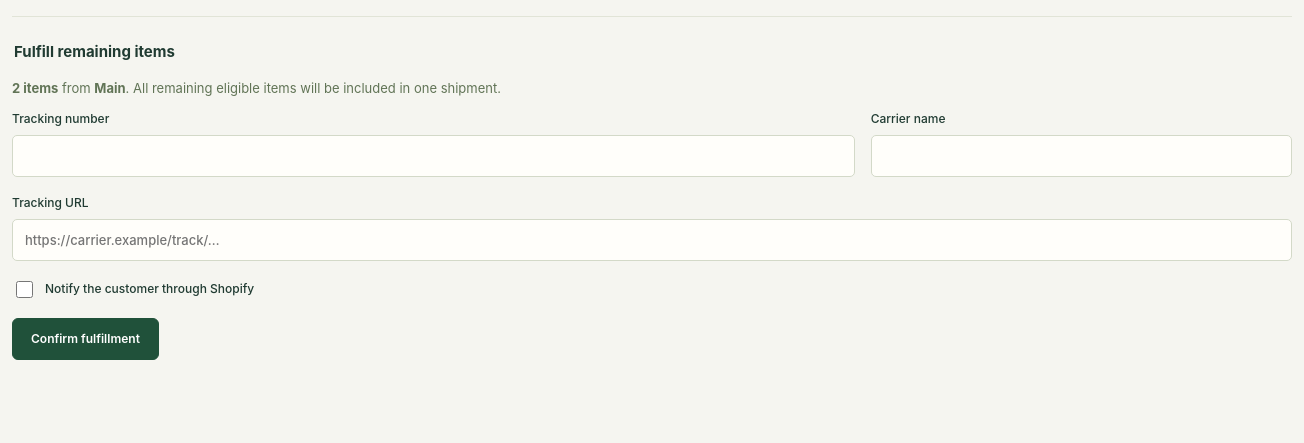
edit workflows › requires rechecking before retrying a failed fulfillment
The width and height of the screenshot is (1304, 443).
Type "X" into the field labelled "Tracking number" at (433, 156), box [12,135,855,177]
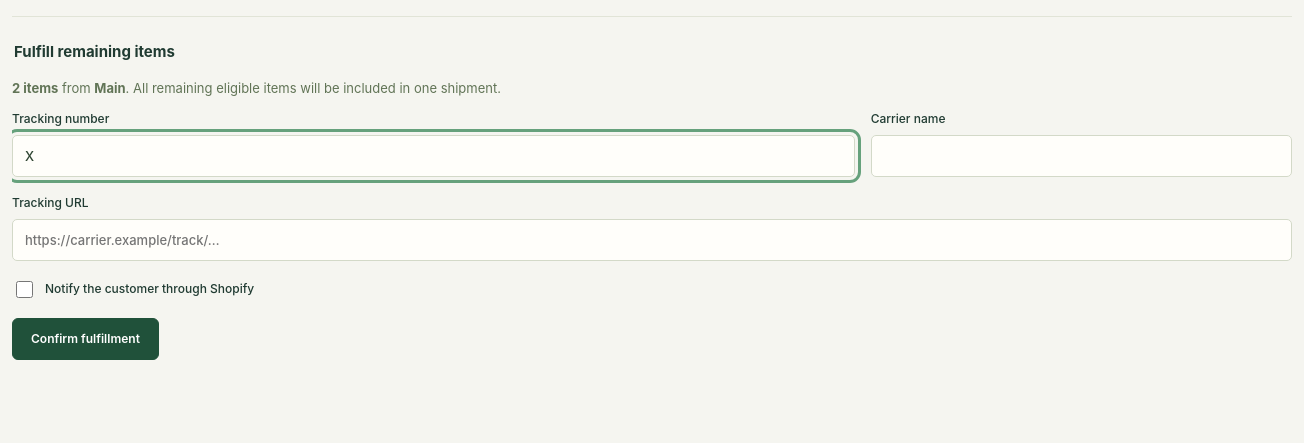
Type "Y" into the field labelled "Carrier name" at (1081, 156), box [871,135,1292,177]
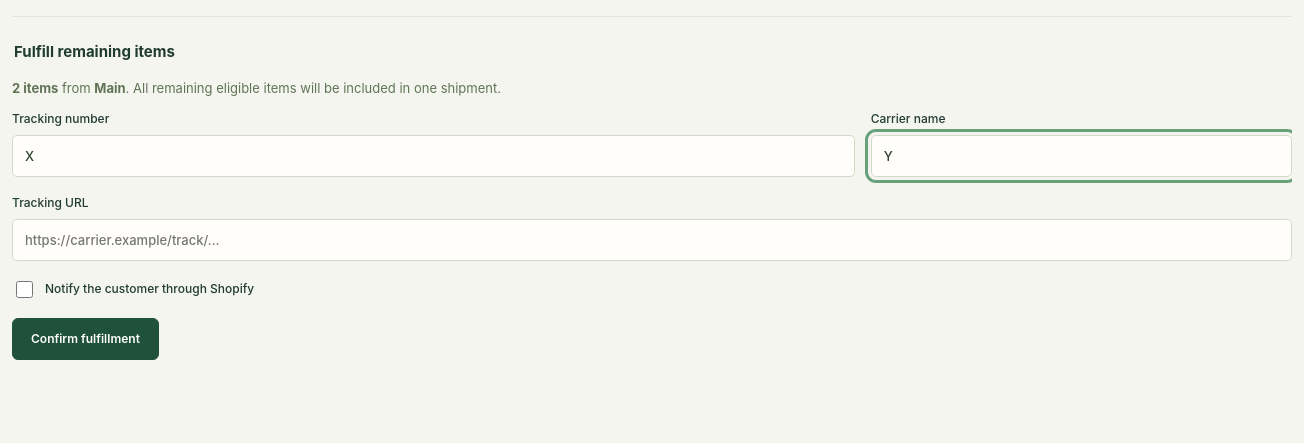
Type "https://example.test" into the field labelled "Tracking URL" at (652, 240), box [12,219,1292,261]
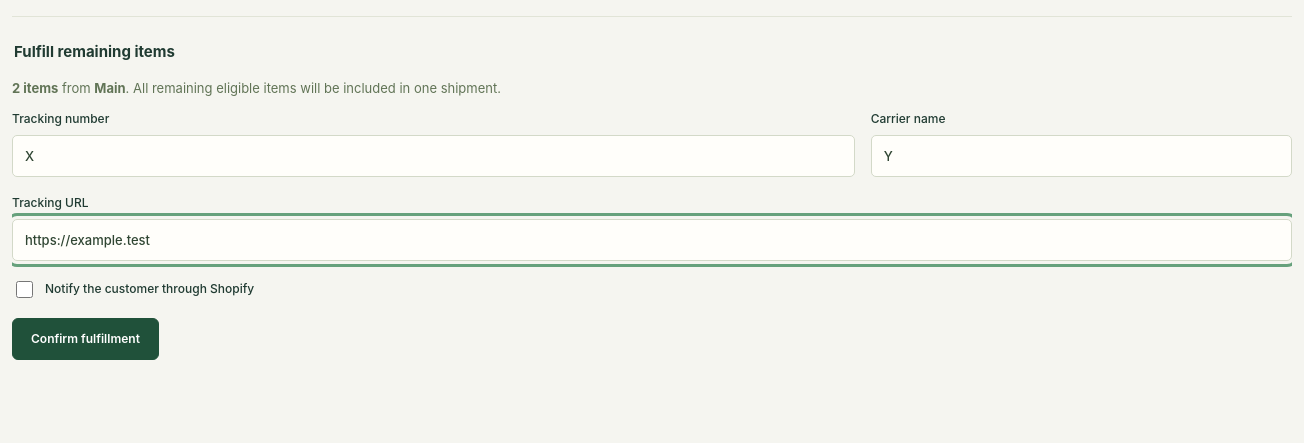
Click the button "Confirm fulfillment" at (85, 339), box [12,318,159,360]
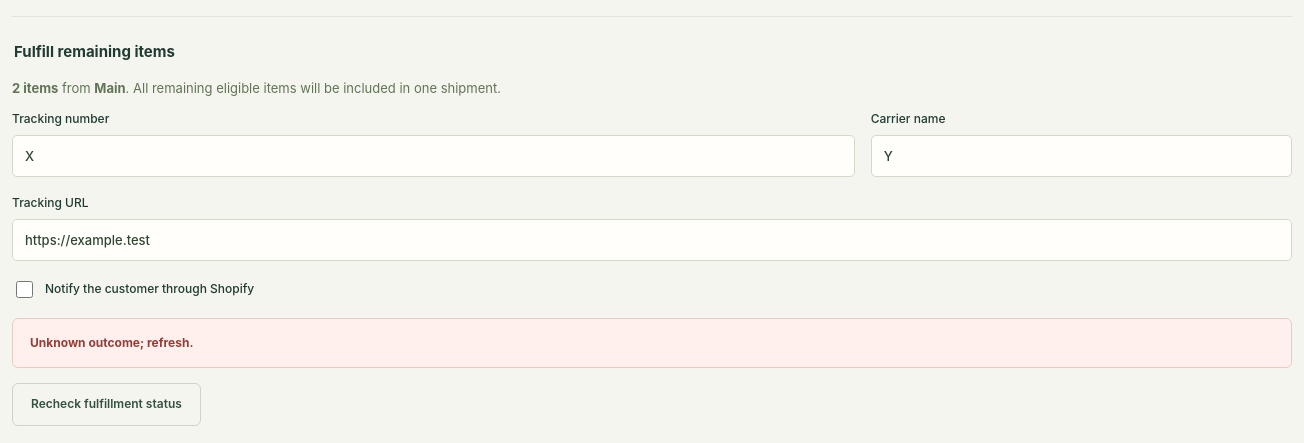
Check: the button "Recheck fulfillment status" is shown, box [12,383,201,426]
Check: the button "Confirm fulfillment" is gone
